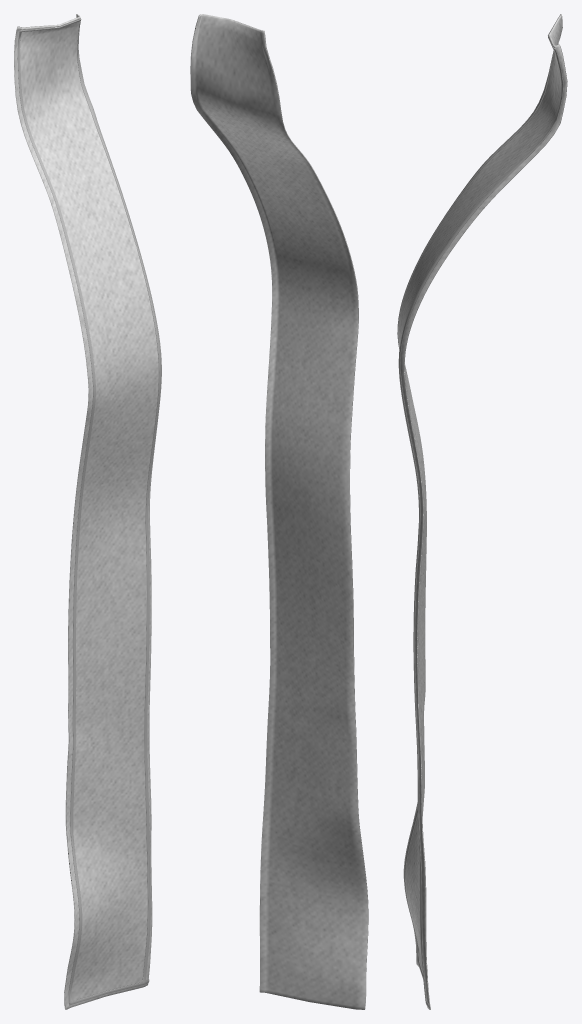
File: Jac_Planka.glb
The picture shows the model from 3 angles, left to right: view 1: azimuth 30°, elevation 25°; view 2: azimuth 150°, elevation 25°; view 3: azimuth 270°, elevation 25°; orthographic projection. The views are drawn at different scales.
Parts seen in each view (by area): view 1: Jac_Planka1, Rope1; view 2: Jac_Planka1; view 3: Jac_Planka1, Rope1.
Part boxes in pixels (box(x1,y1,x2,y2)): Jac_Planka1: box(14, 14, 161, 1009); Rope1: box(17, 18, 161, 1005); Jac_Planka1: box(190, 14, 368, 1009); Jac_Planka1: box(398, 14, 567, 1009); Rope1: box(397, 37, 563, 1006).
Bounding box in the file's own units: 0.122 × 1.17 × 0.1883.
Materials: 2 (2 with a texture image).
